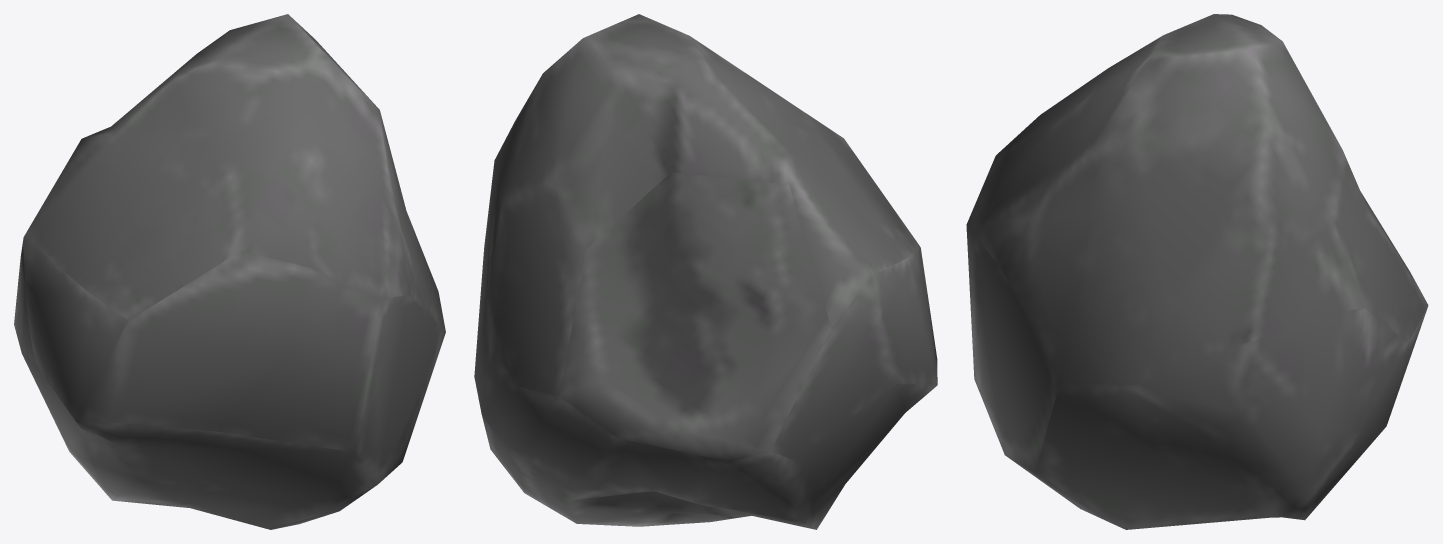
Rendered from rockMedium.fbx.
3 views of the same model, side by side, from view 1: azimuth 30°, elevation 25°; view 2: azimuth 150°, elevation 25°; view 3: azimuth 270°, elevation 25° (orthographic). The views are drawn at different scales.
Parts seen in each view (by area): view 1: rockMedium; view 2: rockMedium; view 3: rockMedium.
Part boxes in pixels (x1,y1,x2,y2): rockMedium: (14,14,445,529); rockMedium: (474,14,937,529); rockMedium: (966,14,1428,529).
Bounding box in the file's own units: 1.65 × 1.97 × 1.63.
1 material, 1 textured.
